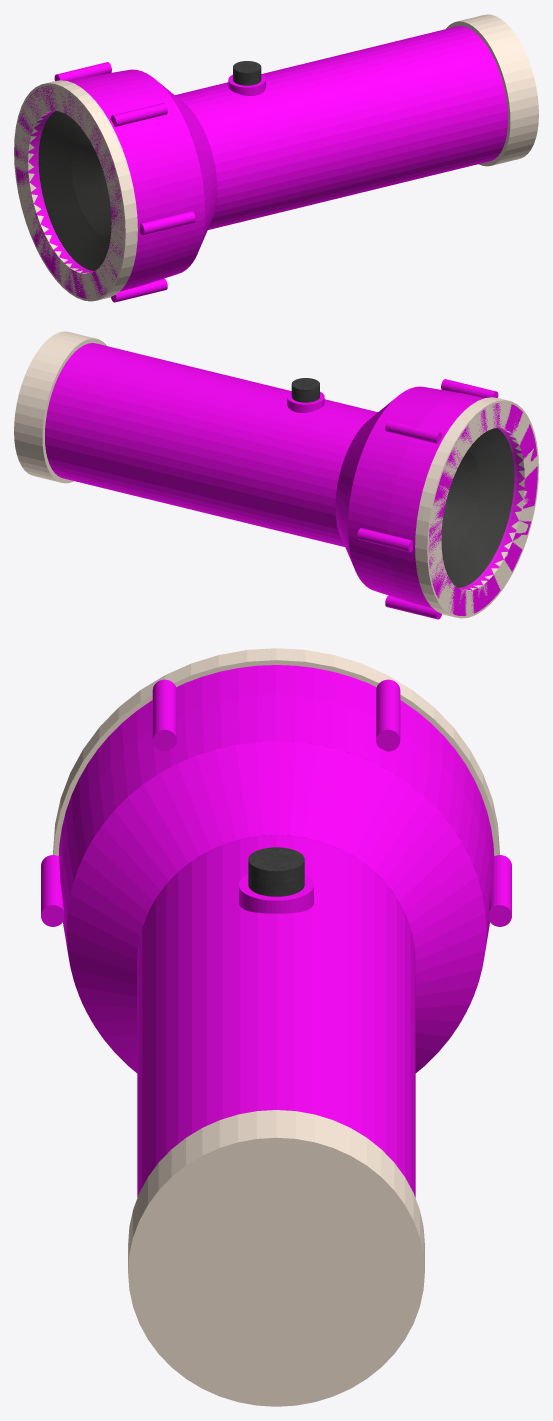
Rendered from Technology_Flashlight__0000.glb.
The picture shows the model from 3 angles, top to bottom: view 1: azimuth 30°, elevation 25°; view 2: azimuth 150°, elevation 25°; view 3: azimuth 270°, elevation 25°; orthographic projection. The views are drawn at different scales.
Parts seen in each view (by area): view 1: body::barrel_shell, body::head_shell, body::front_bezel_ring, body::reflector, body::tail_cap, body::shoulder_shell, body::head_rib_2, body::head_rib_3, push_button::button_cap, body::head_rib_4, body::head_rib_1, body::button_boss; view 2: body::barrel_shell, body::head_shell, body::front_bezel_ring, body::reflector, body::tail_cap, body::shoulder_shell, body::head_rib_1, body::head_rib_0, push_button::button_cap, body::head_rib_5, body::head_rib_2, body::button_boss; view 3: body::barrel_shell, body::tail_cap, body::shoulder_shell, body::head_shell, body::front_bezel_ring, push_button::button_cap, body::button_boss, body::head_rib_1, body::head_rib_2, body::head_rib_0, body::head_rib_3.
Boxes of the visible parts, x1,y1,x2,y2 form: body::barrel_shell: (175, 26, 507, 229); body::head_shell: (15, 69, 204, 298); body::front_bezel_ring: (14, 80, 137, 301); body::reflector: (38, 111, 111, 270); body::tail_cap: (446, 14, 538, 166); body::shoulder_shell: (159, 82, 217, 248); body::head_rib_2: (110, 103, 167, 126); body::head_rib_3: (140, 211, 195, 235); push_button::button_cap: (233, 61, 261, 85); body::head_rib_4: (111, 278, 167, 302); body::head_rib_1: (54, 62, 111, 80); body::button_boss: (228, 74, 265, 95); body::barrel_shell: (45, 343, 377, 546); body::head_shell: (348, 386, 537, 616); body::front_bezel_ring: (415, 397, 538, 618); body::reflector: (441, 428, 514, 587); body::tail_cap: (14, 331, 106, 483); body::shoulder_shell: (335, 399, 393, 565); body::head_rib_1: (385, 420, 442, 443); body::head_rib_0: (357, 528, 412, 552); push_button::button_cap: (291, 378, 319, 402); body::head_rib_5: (385, 595, 441, 619); body::head_rib_2: (441, 379, 498, 397); body::button_boss: (287, 391, 324, 412); body::barrel_shell: (137, 835, 415, 1197); body::tail_cap: (128, 1110, 424, 1406); body::shoulder_shell: (66, 741, 486, 1072); body::head_shell: (58, 665, 494, 1045); body::front_bezel_ring: (53, 648, 499, 855); push_button::button_cap: (248, 847, 304, 896); body::button_boss: (239, 874, 313, 913); body::head_rib_1: (376, 679, 400, 751); body::head_rib_2: (152, 679, 176, 751); body::head_rib_0: (488, 855, 511, 926); body::head_rib_3: (41, 855, 64, 926).
Bounding box in the file's own units: 0.2121 × 0.095 × 0.1001.
Materials: 6 (4 with a texture image).
